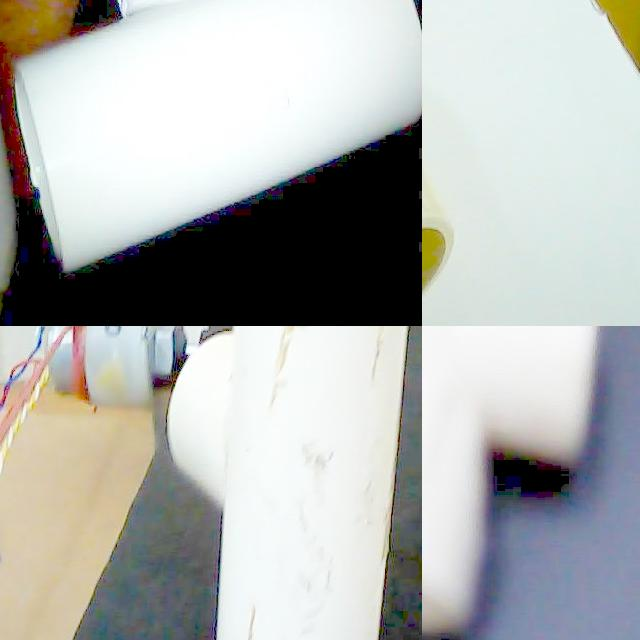Defective: (291, 442, 399, 640), (277, 326, 314, 442), (226, 592, 285, 640), (371, 326, 406, 399)
T Joint: (12, 0, 422, 277), (167, 326, 410, 640), (422, 326, 595, 640)
